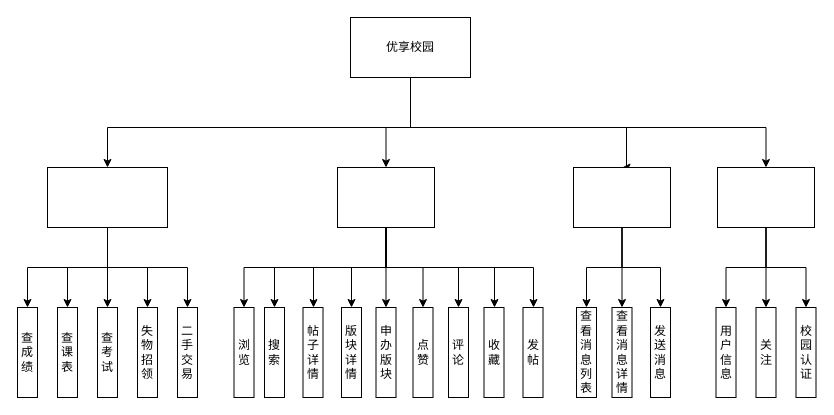
The diagram is 834 pixels wide and 415 high, and some of its shapes have lost their labels. The shapes that lost their labels are listed below. From the top down, each one's centre as x and y in pixels, then its label:
At [107,197]: "功能菜单".
At [385,197]: "论坛".
At [621,197]: "消息".
At [765,197]: "用户".
